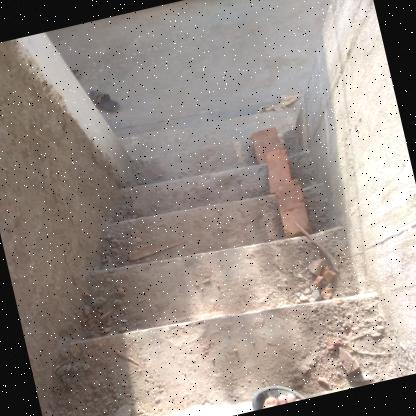stair: (13, 74, 404, 416)
